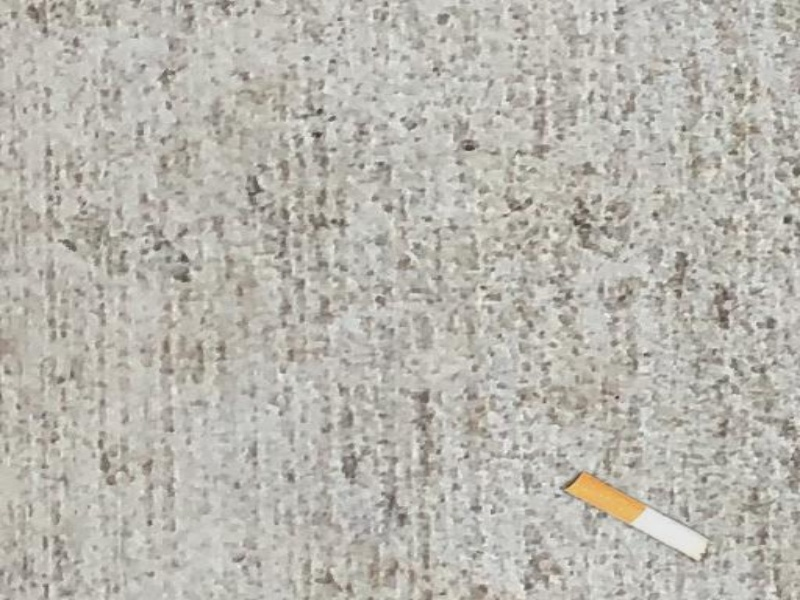cig: (563, 459, 725, 573)
